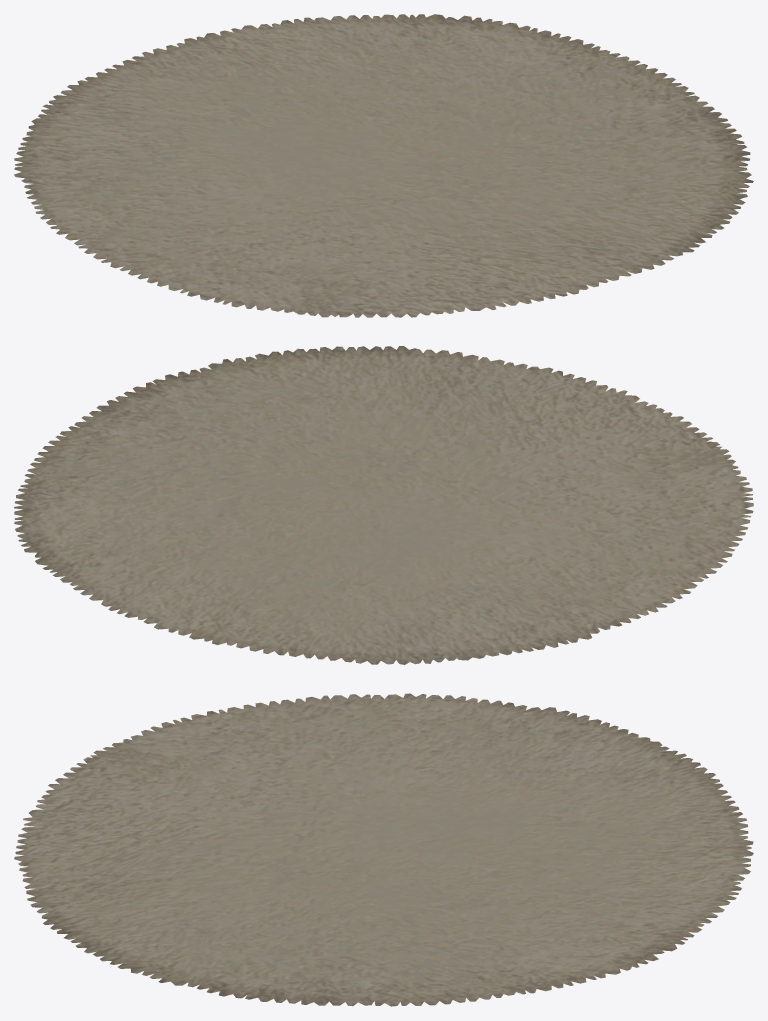
Rendered from RugRoundSimpleM00.glb.
3 views of the same model, one above another, from view 1: azimuth 30°, elevation 25°; view 2: azimuth 150°, elevation 25°; view 3: azimuth 270°, elevation 25° (orthographic). The views are drawn at different scales.
Parts seen in each view (by area): view 1: Main__mMain; view 2: Main__mMain; view 3: Main__mMain.
Boxes of the visible parts, x1,y1,x2,y2 form: Main__mMain: (14,14,753,317); Main__mMain: (14,346,753,664); Main__mMain: (14,693,753,1006).
Bounding box in the file's own units: 29.93 × 0.03 × 29.89.
1 material, 1 textured.
